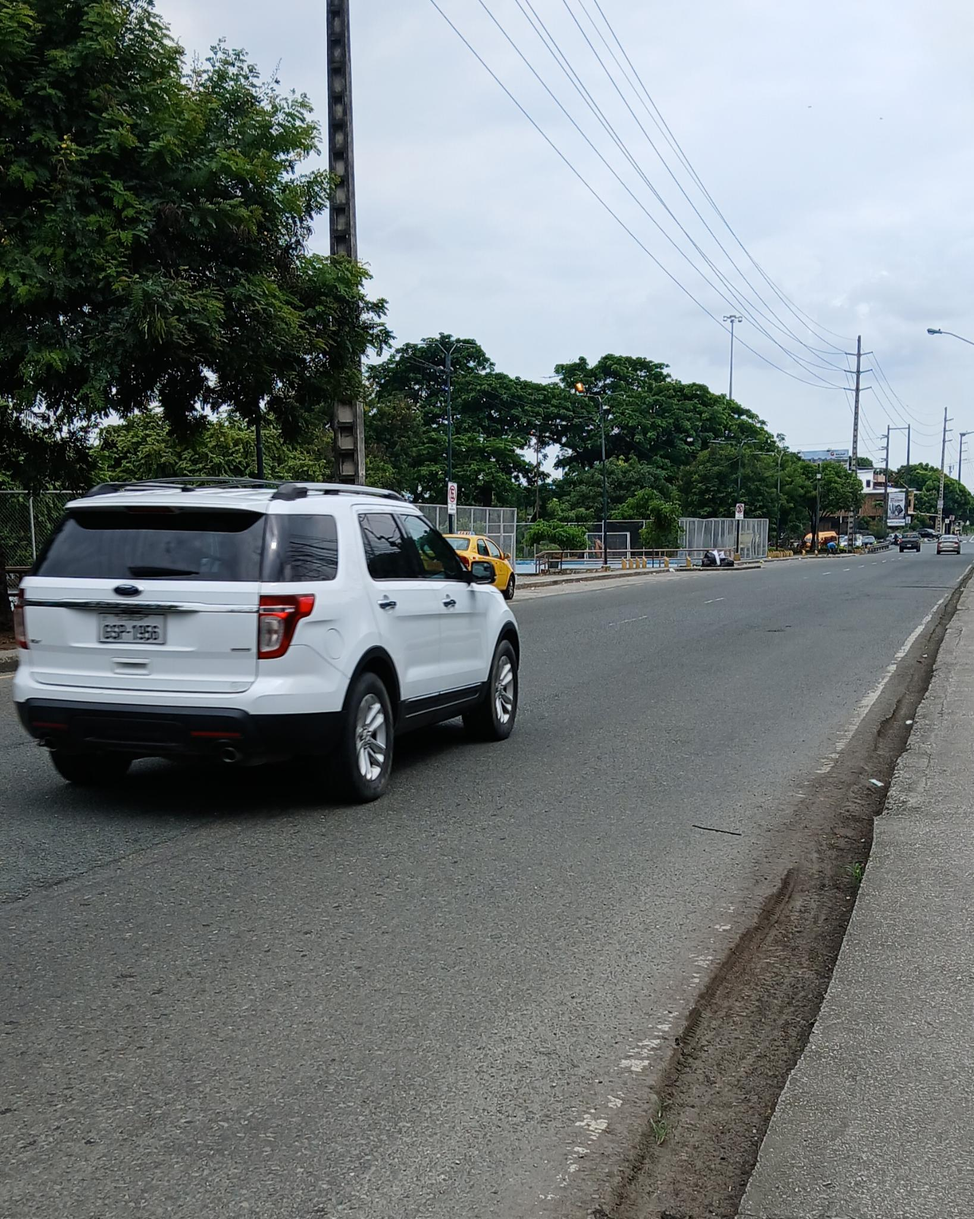license_plate: (98, 614, 166, 644)
